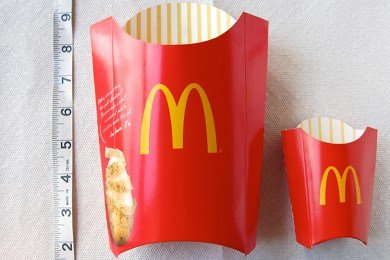mcdonalds: (135, 78, 222, 162), (318, 163, 367, 213)
